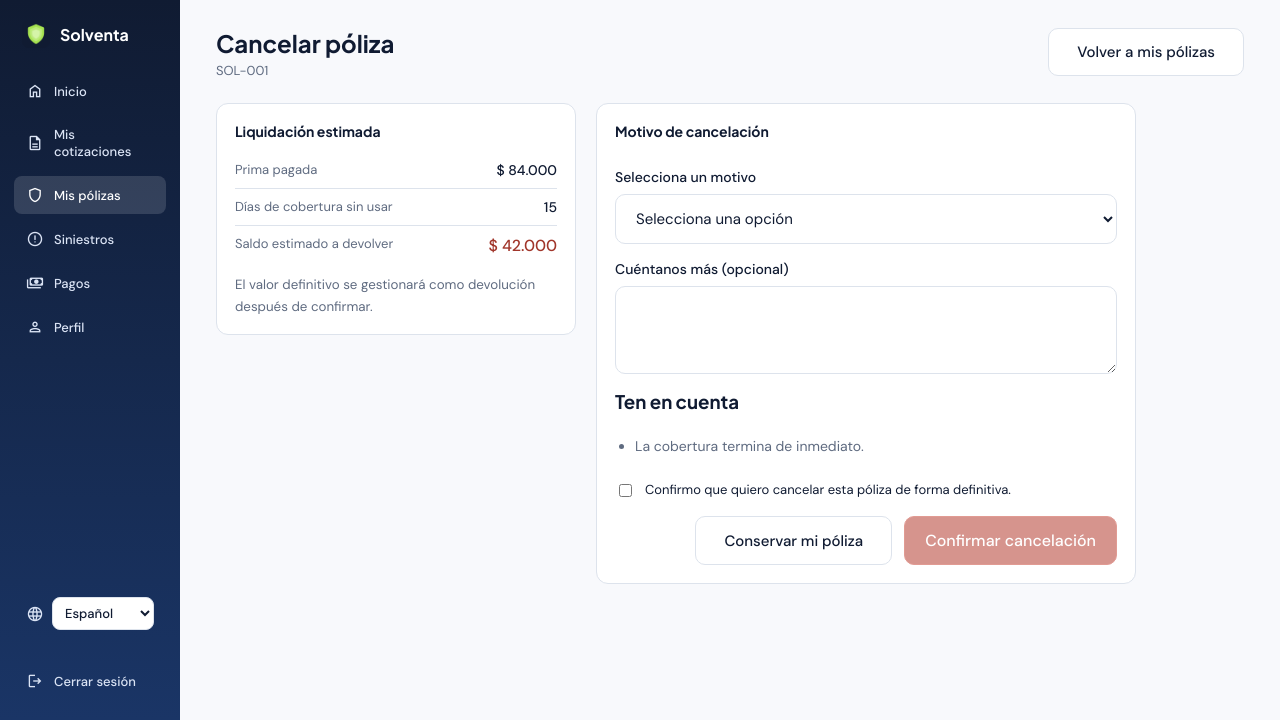
it: exige motivo y confirmación antes de enviar la cancelación
Expected: the button "Confirmar cancelación" is disabled, x1=904 y1=516 x2=1117 y2=565
Select "Ya no la necesito" in the dropdown labelled "Selecciona un motivo" at x=866, y=219, box x1=615 y1=194 x2=1117 y2=244
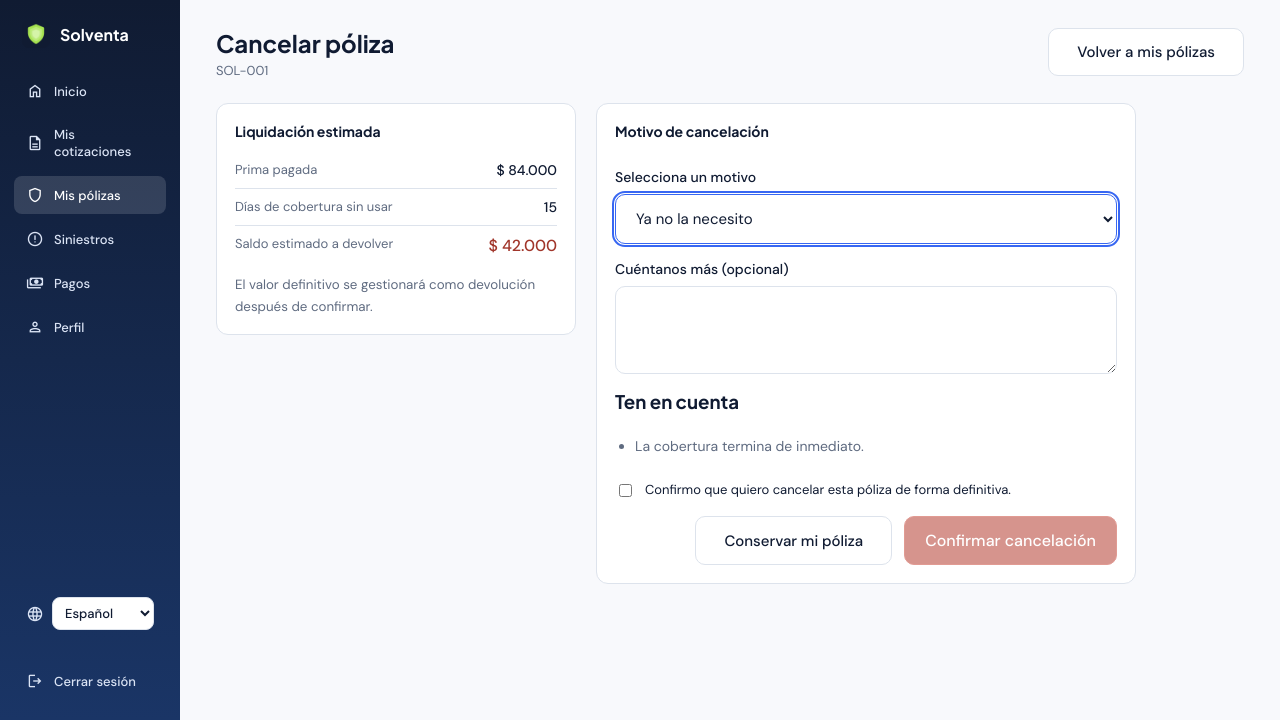
Click the checkbox.
click(626, 491)  # box x1=619 y1=484 x2=632 y2=497
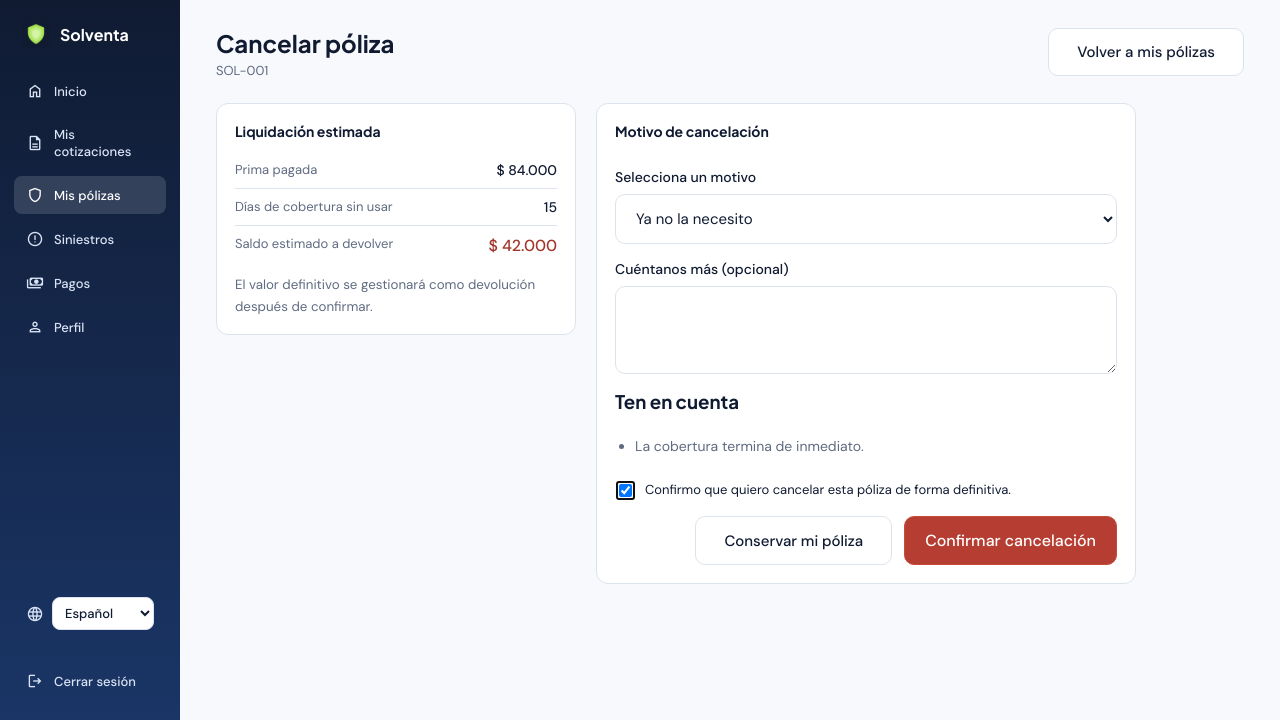
Expected: the button "Confirmar cancelación" is enabled
Click the button "Confirmar cancelación".
click(1011, 541)  # box x1=904 y1=516 x2=1117 y2=565
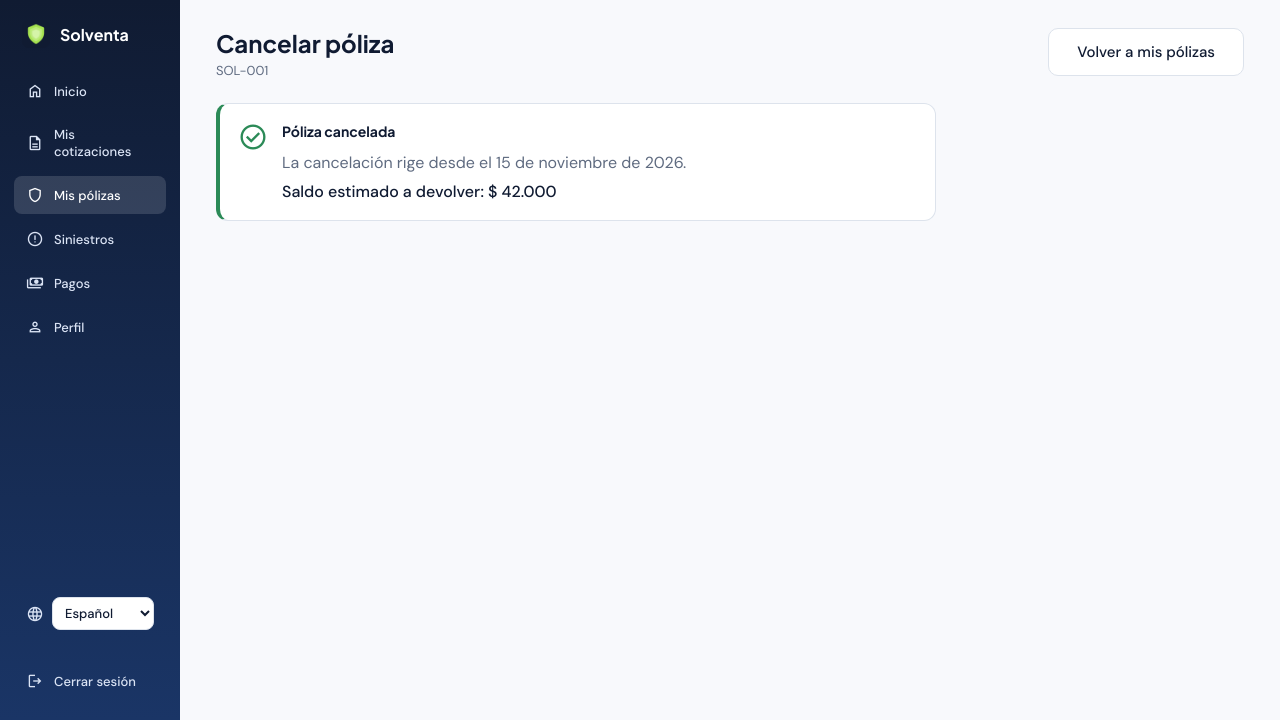
Expected: the heading "Póliza cancelada" is shown, x1=282 y1=122 x2=396 y2=140
